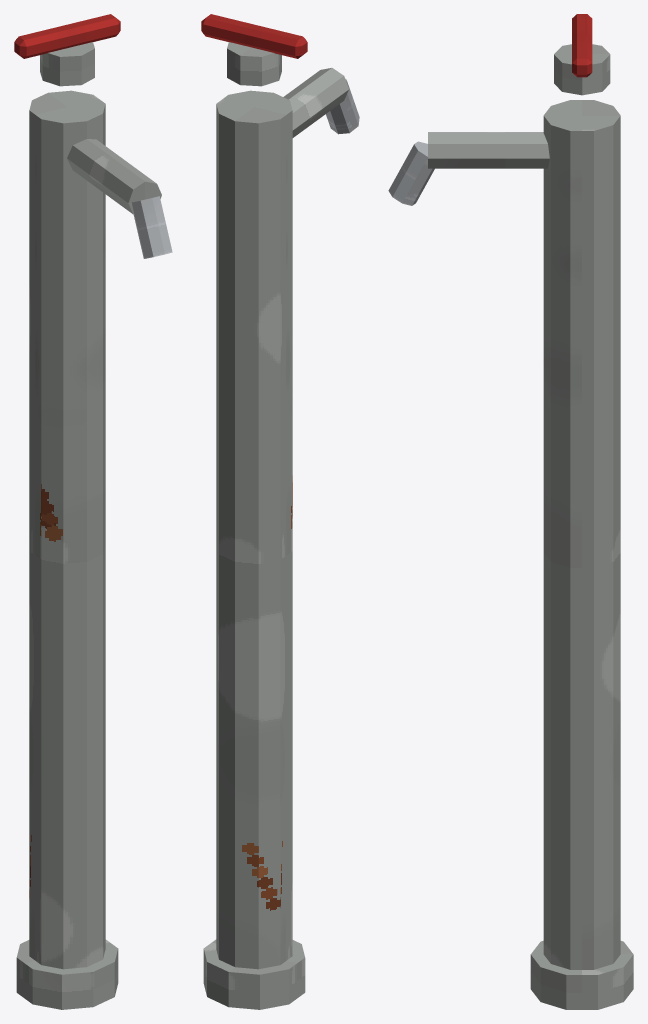
File: standpipe_tap.glb
3 views of the same model, side by side, from view 1: azimuth 30°, elevation 25°; view 2: azimuth 150°, elevation 25°; view 3: azimuth 270°, elevation 25° (orthographic).
Parts seen in each view (by area): view 1: p; view 2: p; view 3: p.
Boxes of the visible parts, x1,y1,x2,y2 form: p: (14, 14, 172, 1009); p: (201, 14, 359, 1009); p: (388, 14, 633, 1009).
Bounding box in the file's own units: 0.09 × 0.818 × 0.1907.
Materials: 3 (3 with a texture image).
